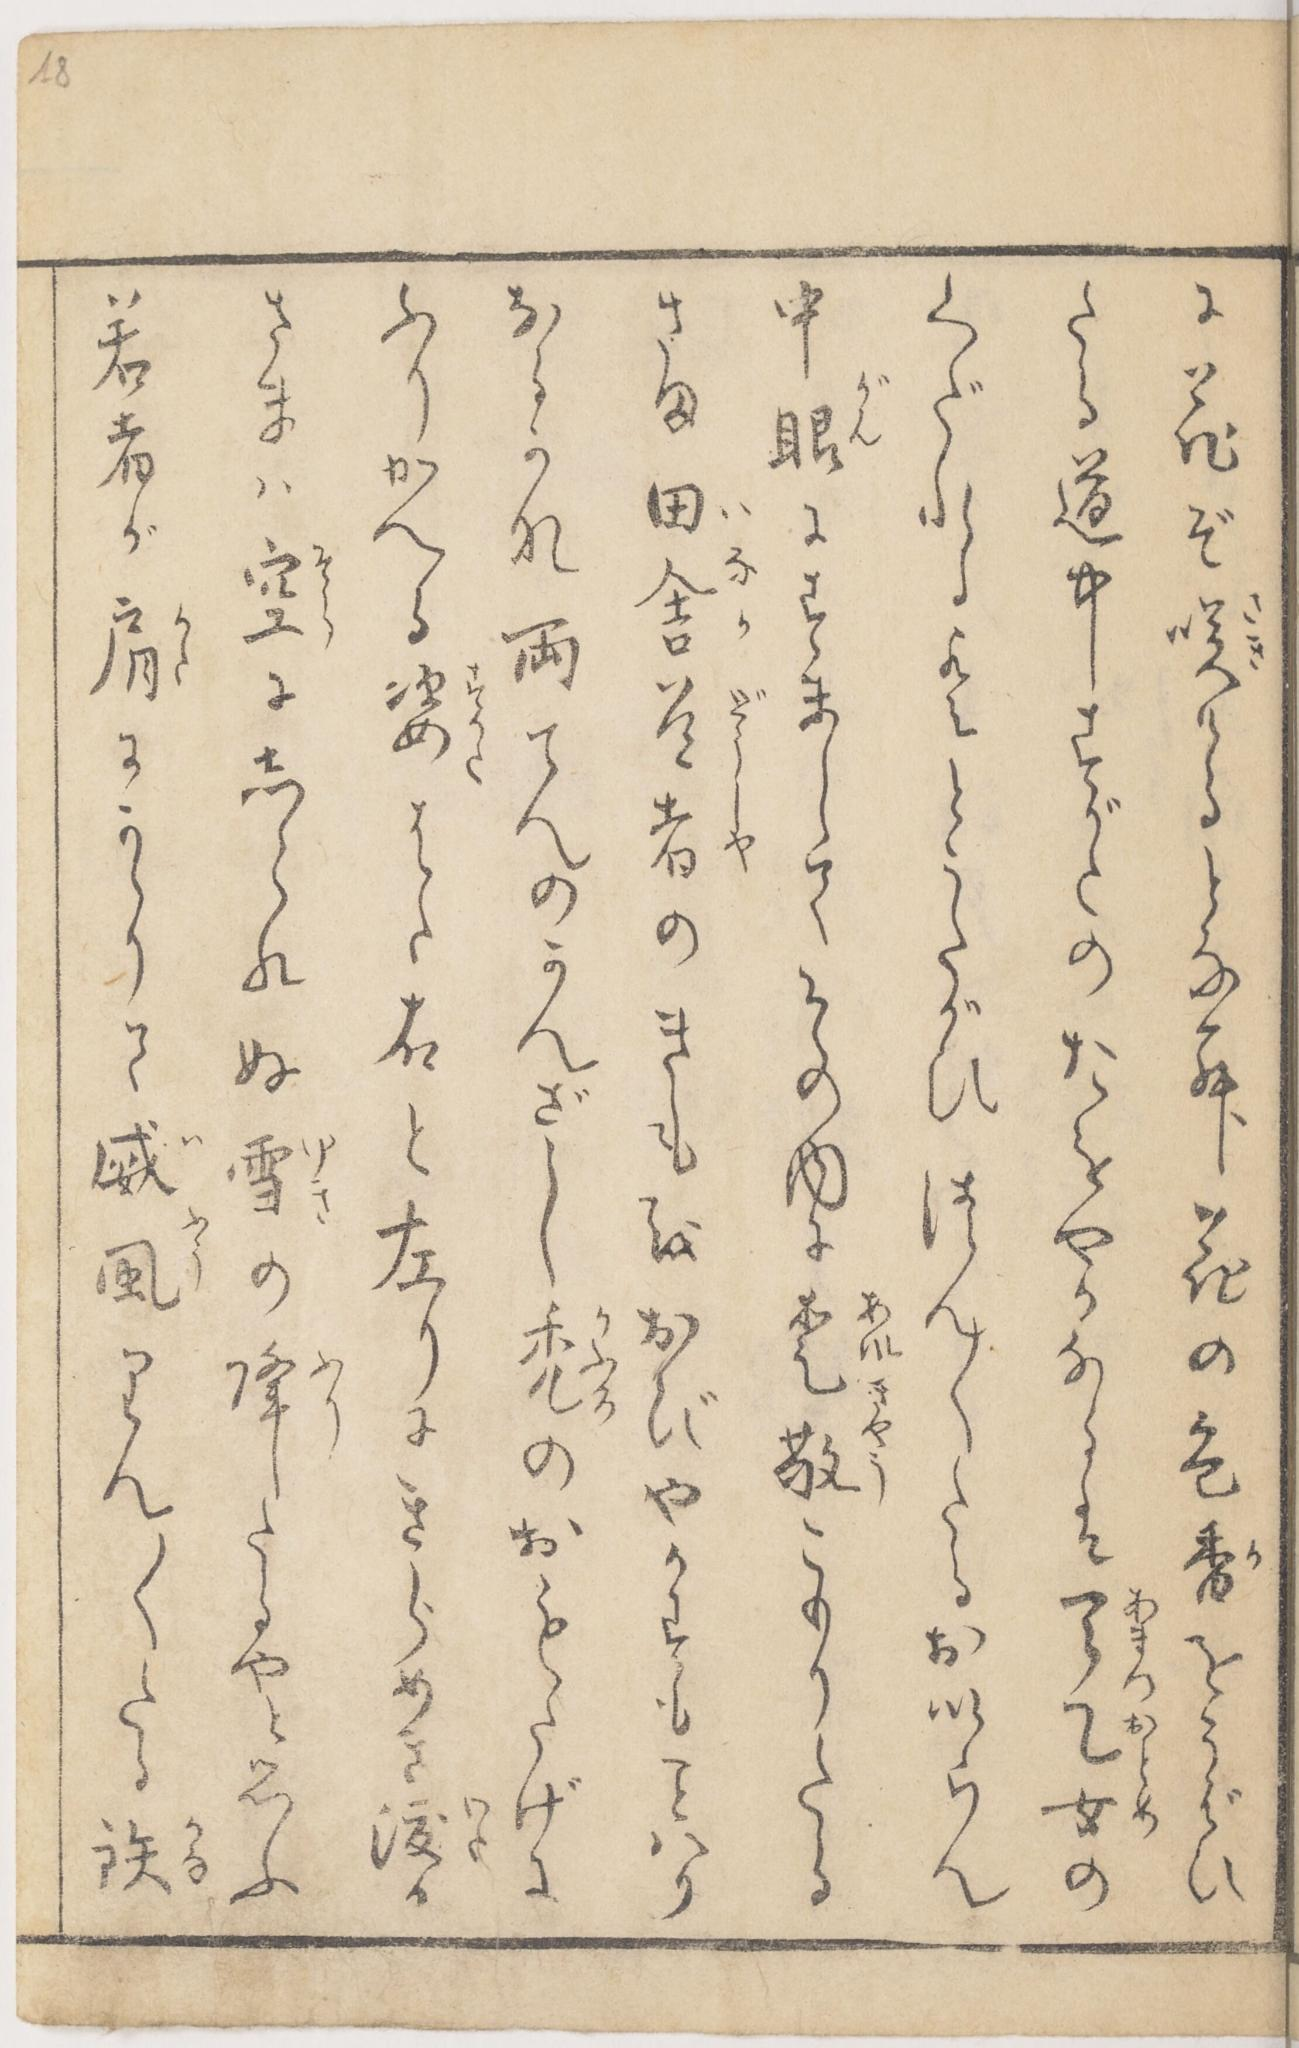MainZone-Character: (763, 372, 911, 490), (769, 1278, 906, 1403), (82, 1205, 225, 1324), (219, 1333, 364, 1449), (367, 657, 496, 785), (76, 1803, 227, 1909), (82, 584, 211, 708), (618, 545, 758, 657), (761, 1408, 906, 1515), (225, 524, 337, 660), (636, 775, 767, 882), (518, 1296, 624, 1429), (1156, 578, 1283, 688), (221, 1126, 349, 1231), (1057, 1578, 1168, 1696), (645, 675, 775, 770), (354, 1794, 500, 1873), (87, 1115, 216, 1203), (1186, 1509, 1280, 1611), (1042, 1770, 1166, 1843), (624, 469, 758, 534), (1065, 1696, 1168, 1770)
MainZone-Ruby: (853, 1281, 903, 1400), (311, 1343, 366, 1449), (582, 1302, 626, 1423), (291, 1126, 342, 1229), (718, 673, 772, 770), (1117, 1587, 1165, 1693), (850, 1405, 897, 1508), (845, 369, 900, 452), (460, 654, 493, 788), (172, 1205, 222, 1291), (715, 778, 764, 866), (158, 594, 202, 687), (448, 1788, 499, 1866), (723, 545, 761, 645), (181, 1812, 225, 1897), (312, 528, 340, 649), (1235, 584, 1275, 666), (1124, 1700, 1163, 1763), (1132, 1775, 1166, 1836), (714, 488, 754, 530), (170, 1121, 209, 1160), (1241, 1524, 1272, 1570)
